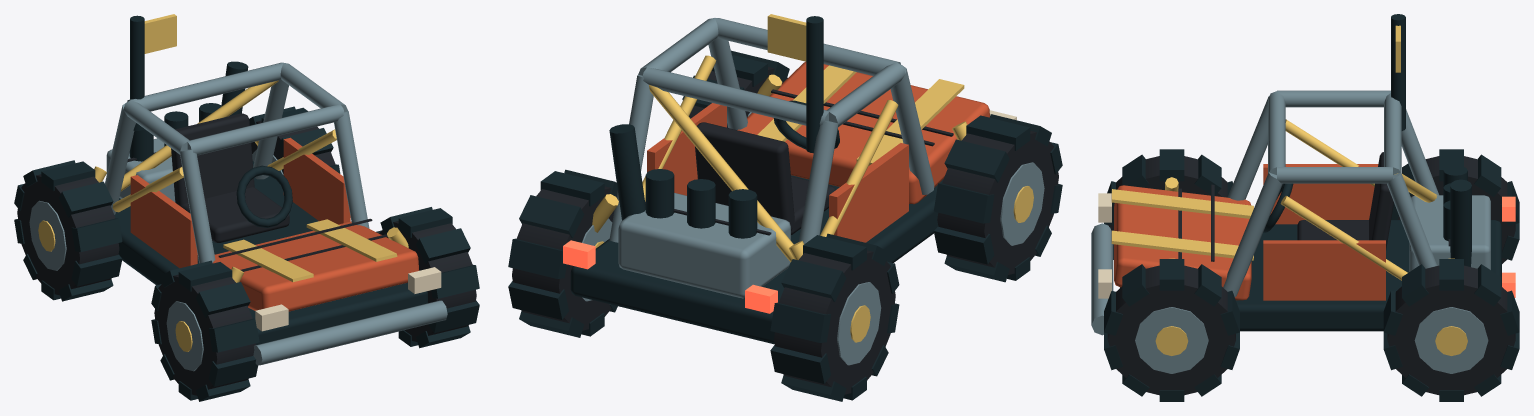
The model's file is row-six-buggy.glb.
3 views of the same model, side by side, from view 1: azimuth 30°, elevation 25°; view 2: azimuth 150°, elevation 25°; view 3: azimuth 270°, elevation 25° (orthographic). The views are drawn at different scales.
Parts seen in each view (by area): view 1: row-six-buggy; view 2: row-six-buggy; view 3: row-six-buggy.
Boxes of the visible parts, x1,y1,x2,y2 form: row-six-buggy: (14, 14, 479, 401); row-six-buggy: (508, 14, 1062, 401); row-six-buggy: (1091, 14, 1519, 401).
Size of the model in its own units: 2.28 by 2.31 by 3.14.
